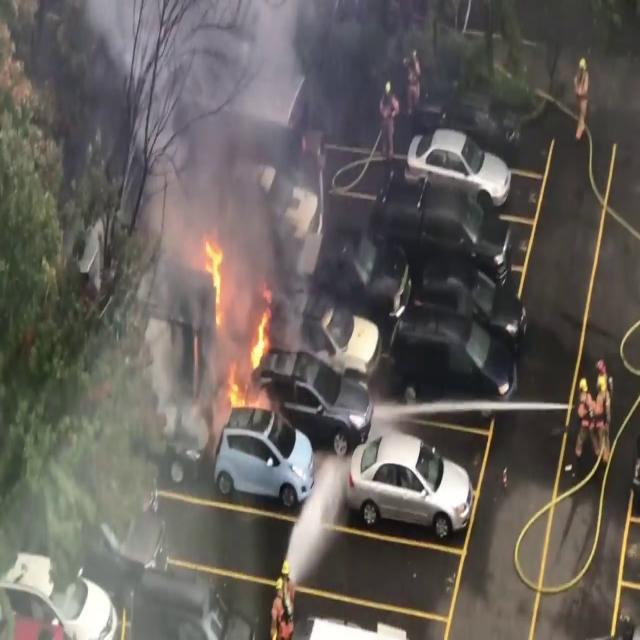Fire: (225, 296, 278, 418), (196, 231, 231, 325)
Smoke: (104, 0, 358, 302), (122, 306, 206, 454)
